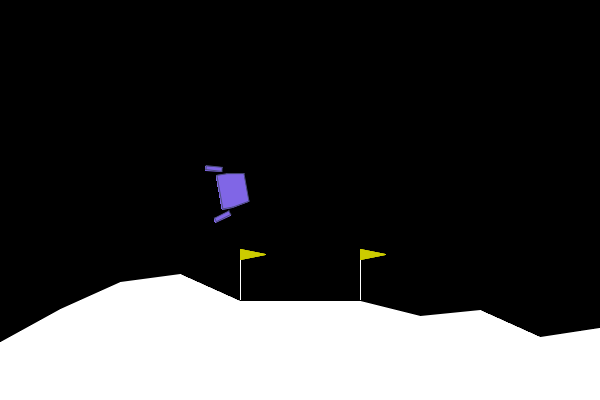lander: (203, 158, 253, 224)
